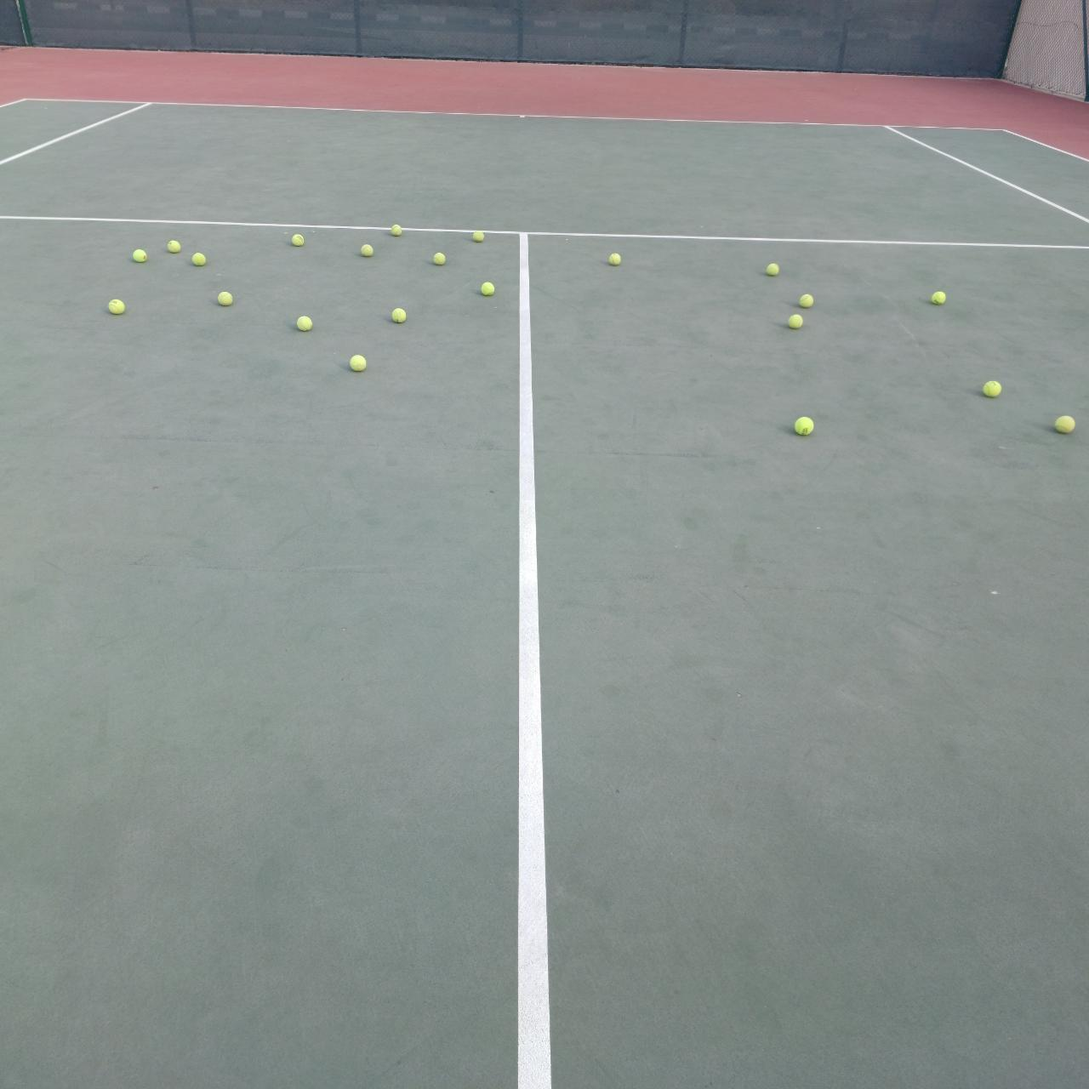tennis-ball: (792, 413, 814, 436), (1053, 413, 1075, 434), (981, 379, 1001, 397), (350, 354, 367, 372), (108, 299, 125, 315), (297, 315, 312, 331), (788, 314, 803, 329), (218, 291, 232, 306), (133, 248, 147, 263), (392, 308, 406, 322), (800, 293, 814, 307), (607, 250, 620, 265), (481, 282, 494, 296), (192, 252, 205, 266), (932, 292, 946, 305), (434, 252, 446, 266), (167, 241, 181, 253), (361, 244, 373, 257), (292, 234, 304, 247), (767, 264, 779, 276), (473, 231, 484, 242), (391, 225, 402, 236)
